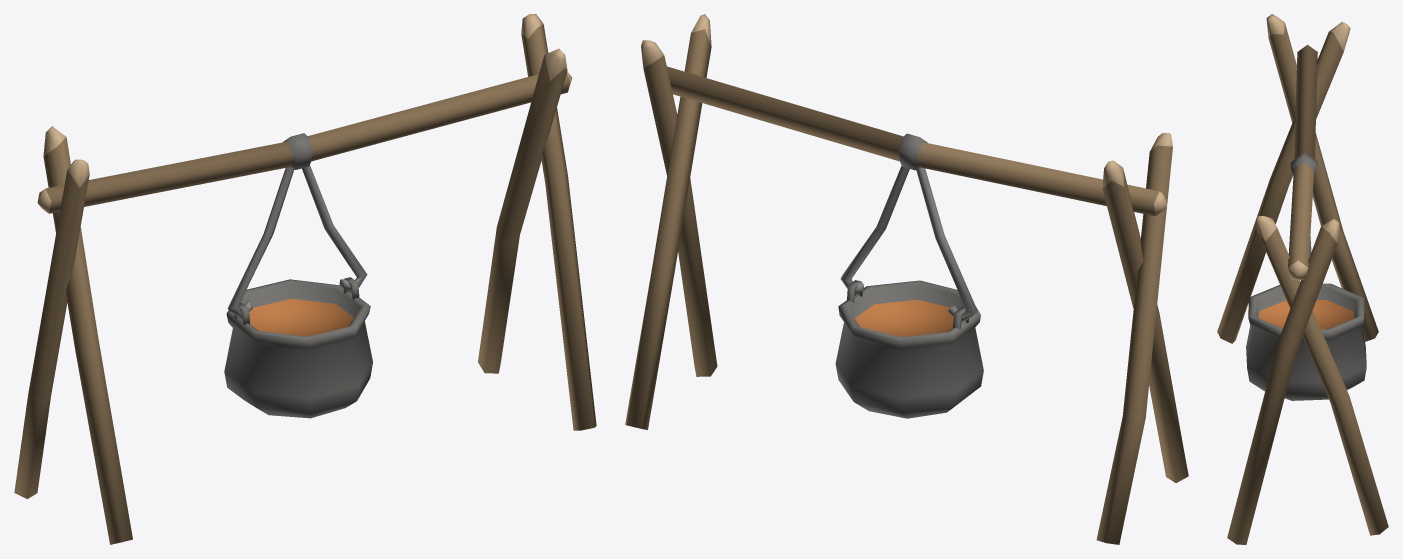
Rendered from rpgpp_ag_hanger_wood_02c.fbx.
3 renders of one model, left to right at view 1: azimuth 30°, elevation 25°; view 2: azimuth 150°, elevation 25°; view 3: azimuth 270°, elevation 25°, orthographic. The views are drawn at different scales.
Parts seen in each view (by area): view 1: rpgpp_ag_hanger_wood_02c; view 2: rpgpp_ag_hanger_wood_02c; view 3: rpgpp_ag_hanger_wood_02c.
Boxes of the visible parts, box(x1,y1,x2,y2) form: rpgpp_ag_hanger_wood_02c: box(14, 14, 596, 544); rpgpp_ag_hanger_wood_02c: box(625, 14, 1188, 544); rpgpp_ag_hanger_wood_02c: box(1217, 14, 1388, 544).
Size of the model in its own units: 2.23 by 1.52 by 0.7267.
